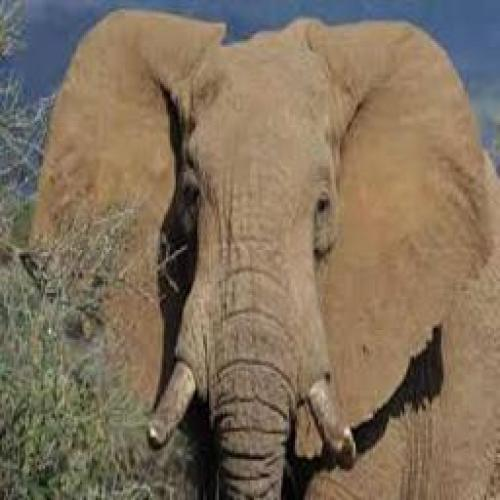african_elephant-endangered: (37, 10, 498, 500)
